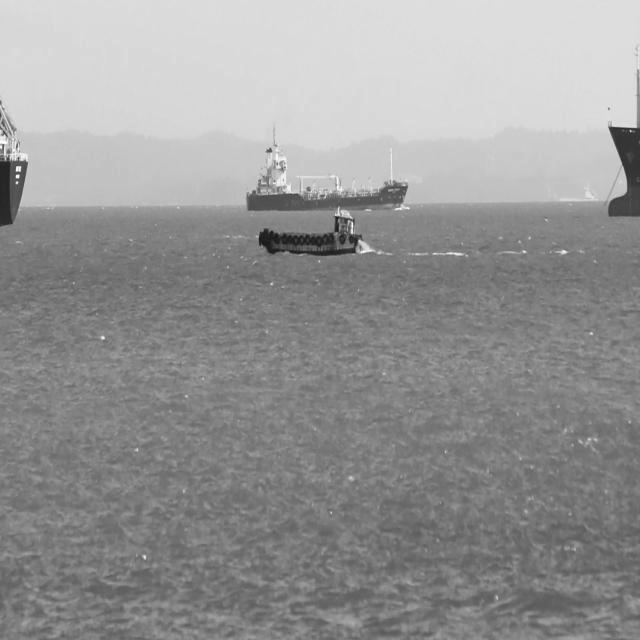ship: (246, 124, 408, 214), (606, 44, 639, 219), (258, 206, 365, 256), (0, 100, 27, 227)
